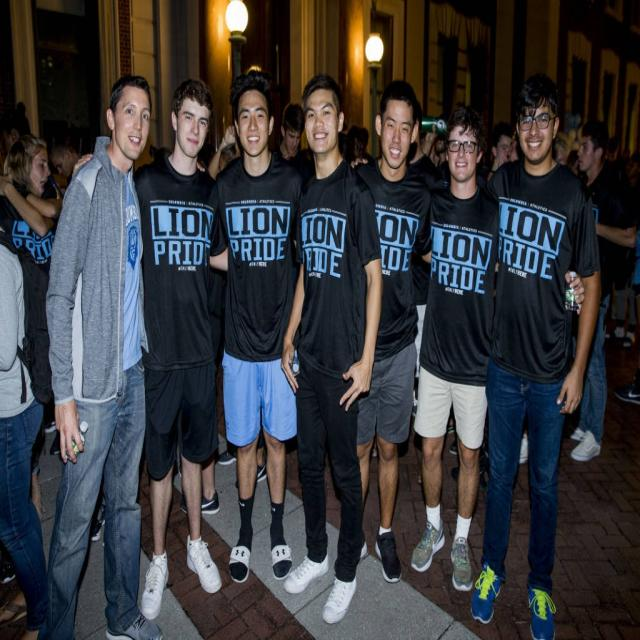body: (28, 68, 168, 639), (469, 70, 601, 638), (279, 70, 385, 630), (129, 76, 229, 622), (214, 65, 308, 586), (406, 103, 498, 595), (350, 78, 432, 584), (0, 130, 63, 530), (0, 244, 54, 639), (377, 94, 432, 460), (568, 116, 622, 466), (611, 158, 638, 350), (178, 436, 238, 516), (197, 125, 238, 181), (336, 121, 375, 168), (441, 406, 458, 511), (490, 122, 524, 174), (279, 102, 306, 162), (0, 100, 31, 150), (420, 123, 448, 167), (90, 476, 106, 545), (477, 416, 490, 494), (611, 374, 640, 408), (632, 229, 640, 340), (252, 428, 268, 481), (56, 149, 76, 190), (566, 150, 583, 178), (148, 146, 172, 162), (519, 426, 529, 464), (606, 135, 620, 162), (418, 474, 423, 491)
